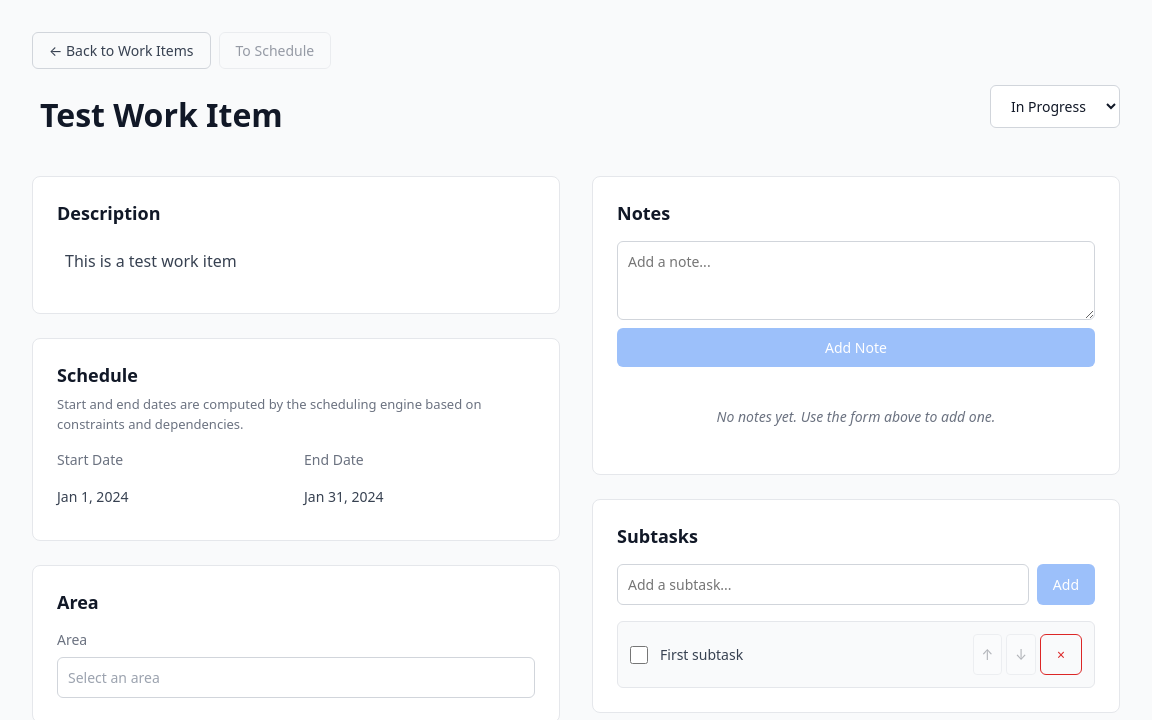
Scenario: WorkItemDetailPage › modals and action labels (Issue #1812) › opens the delete-subtask confirmation modal with translated title/text/buttons
The width and height of the screenshot is (1152, 720).
Expected: the text "First subtask" is shown, [660, 645, 743, 664]
Click the button with class "deleteButton": (1061, 654) [1040, 634, 1082, 675]
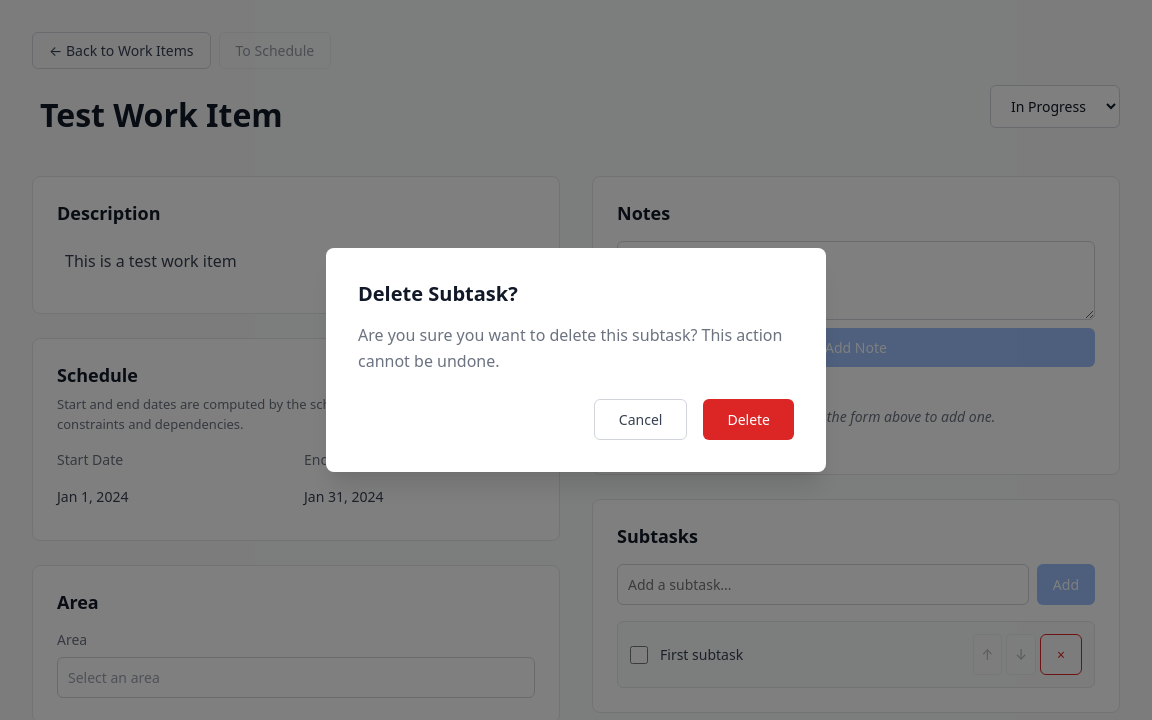
Now the heading "Delete Subtask?" is shown, box [358, 280, 518, 307]
Now the text "Are you sure you want to delete this subtask? This action cannot be undone." is shown, box [358, 323, 794, 375]
Now the button "Cancel" is shown
# Cancel closes the modal without calling the delete API
Click the button "Cancel": (641, 419) [594, 399, 687, 440]
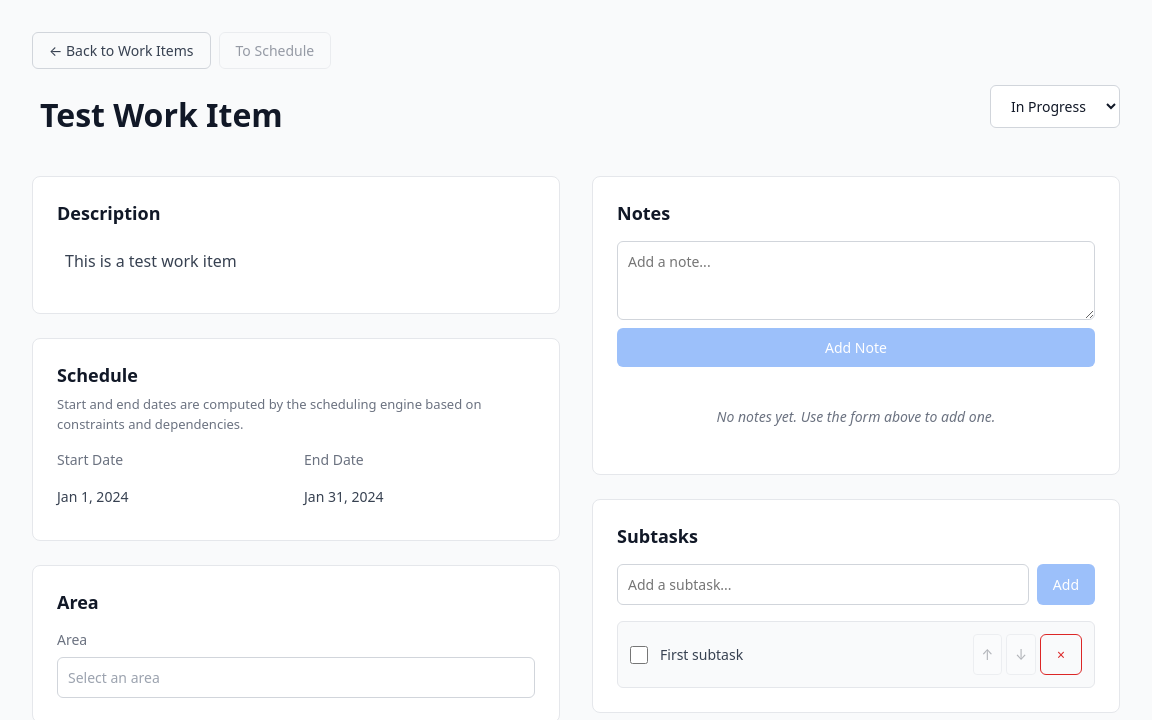
Now the heading "Delete Subtask?" is gone
